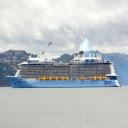cruises: (6, 51, 123, 90)
